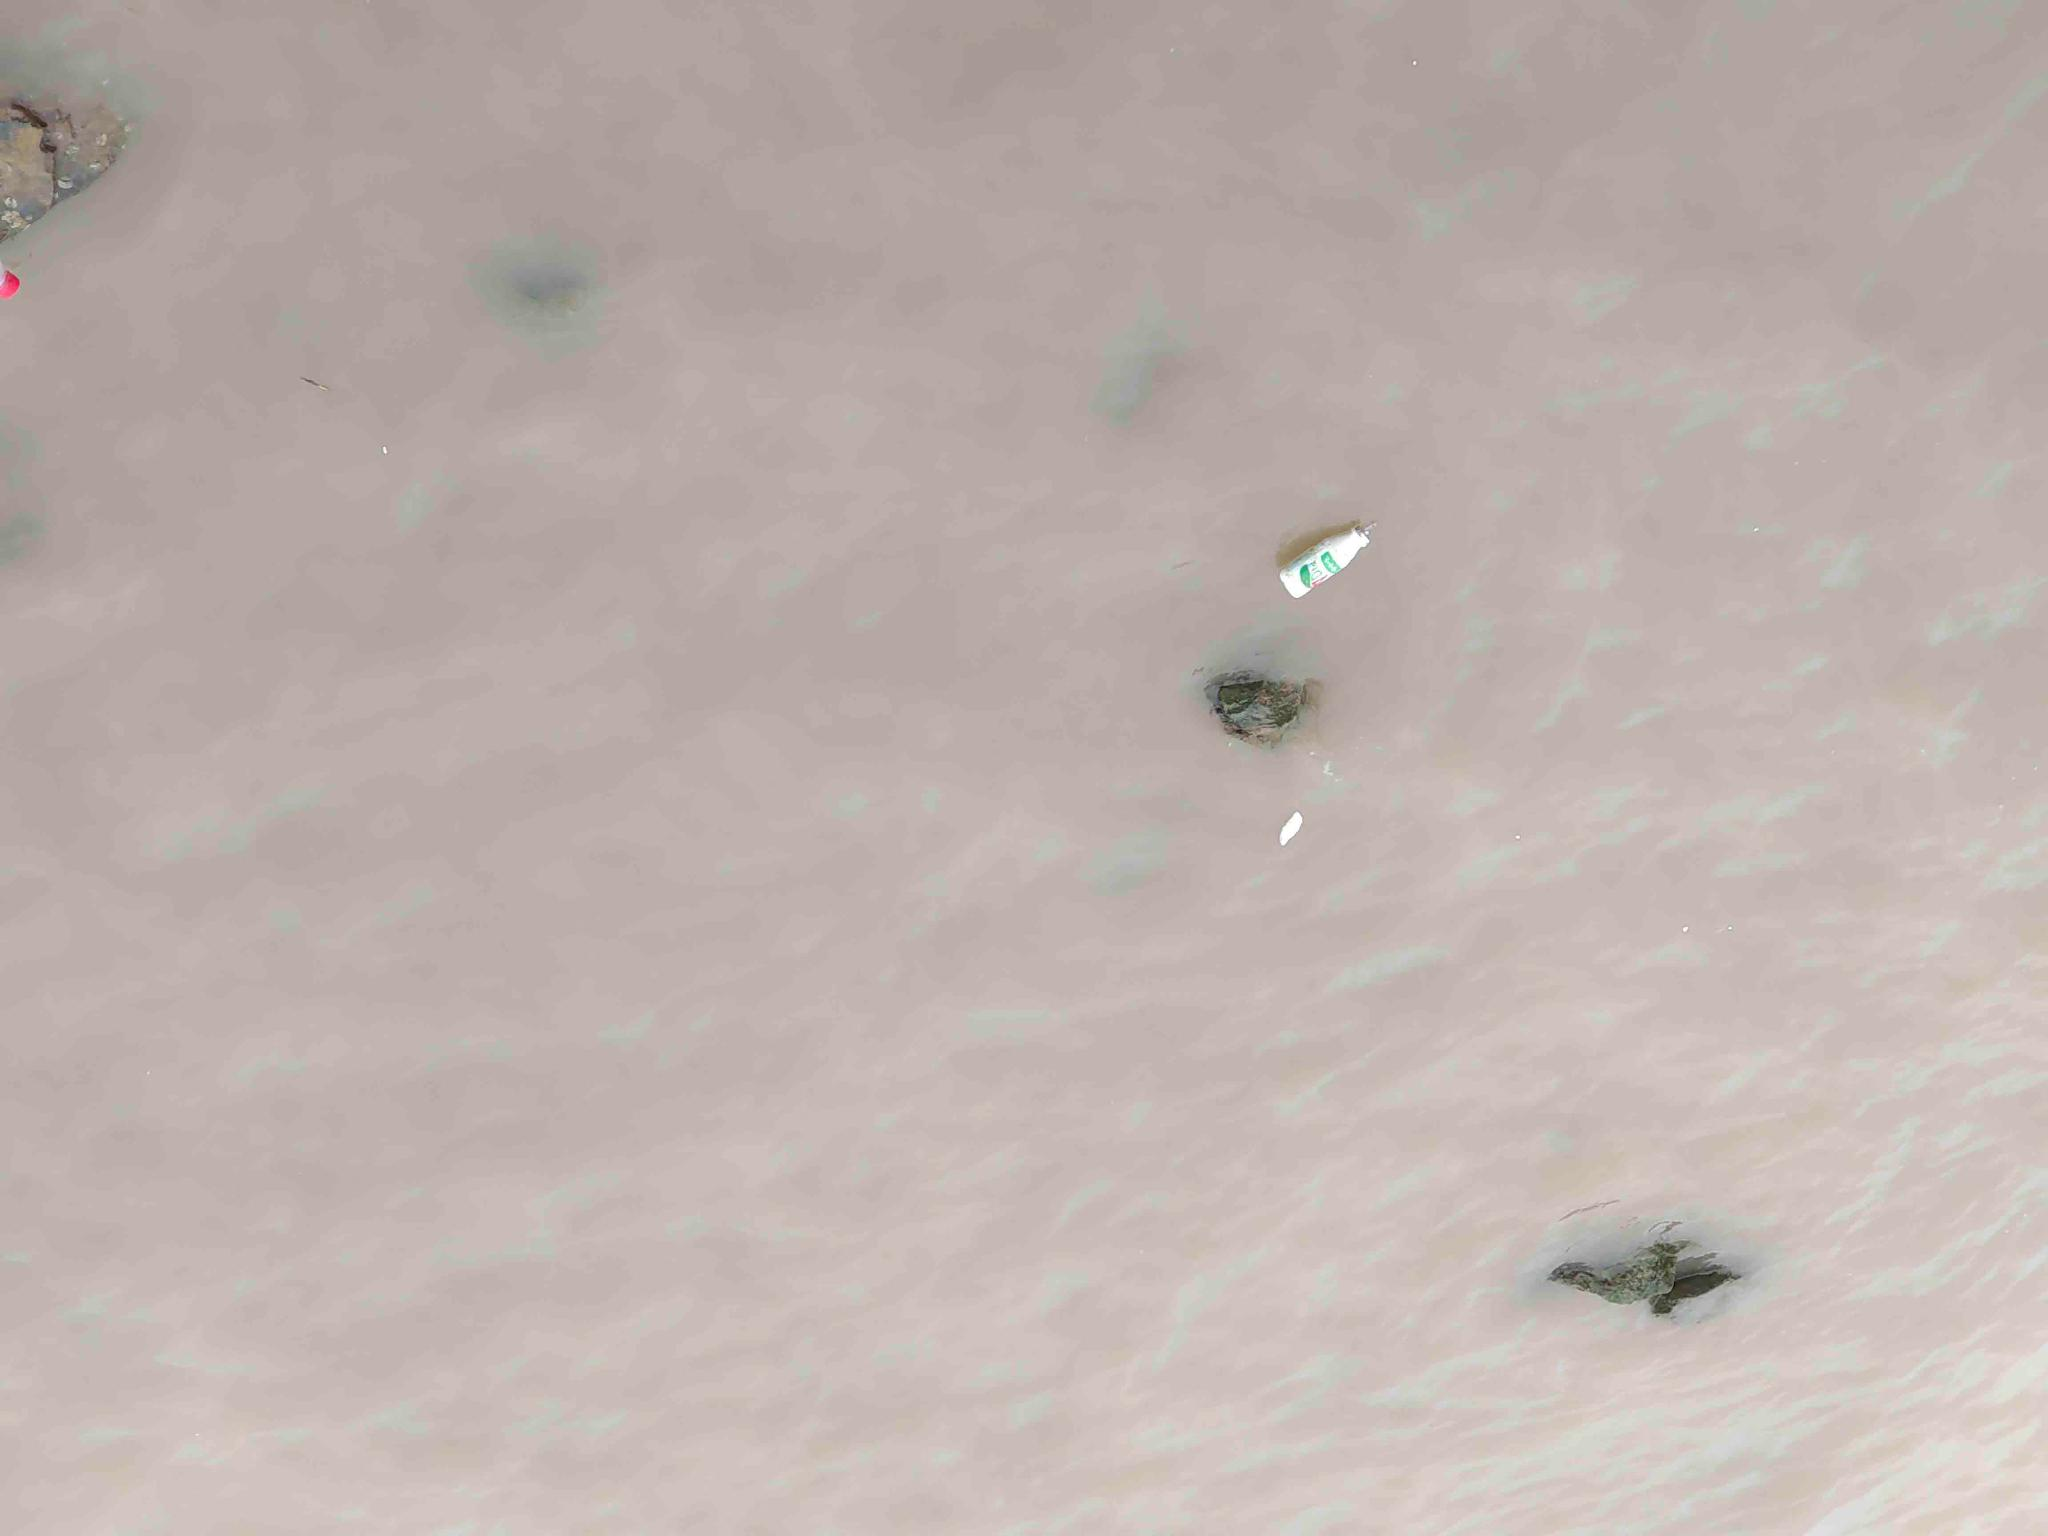Plastic: (1282, 524, 1372, 595)
